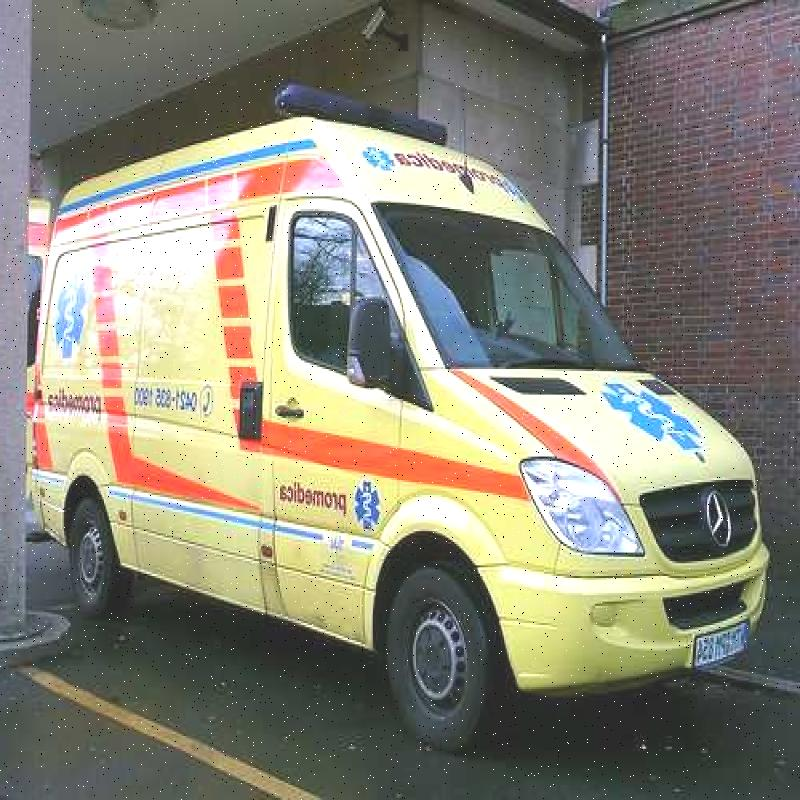AmbulanceSiren: (246, 85, 463, 144)
